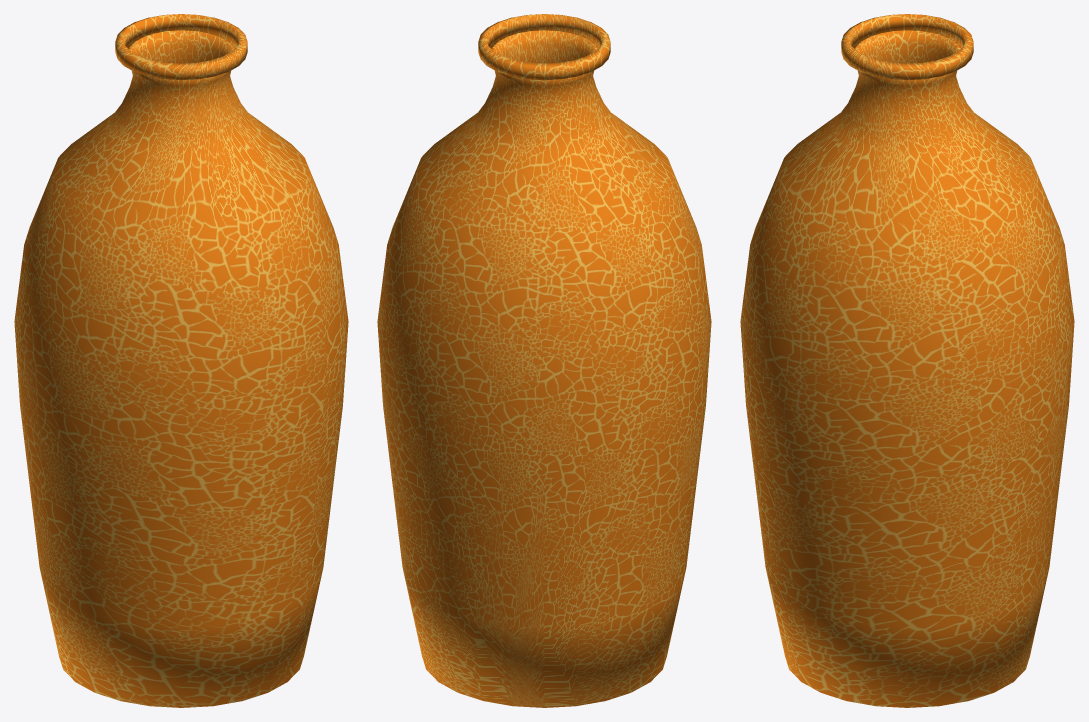
File: vase2.fbx
3 views of the same model, side by side, from view 1: azimuth 30°, elevation 25°; view 2: azimuth 150°, elevation 25°; view 3: azimuth 270°, elevation 25° (orthographic).
Parts seen in each view (by area): view 1: Cylinder; view 2: Cylinder; view 3: Cylinder.
Part boxes in pixels (left/top/right/bottom): Cylinder: left=14, top=14, right=348, bottom=707; Cylinder: left=377, top=14, right=711, bottom=707; Cylinder: left=740, top=14, right=1074, bottom=707.
Size of the model in its own units: 273 by 556 by 273.
